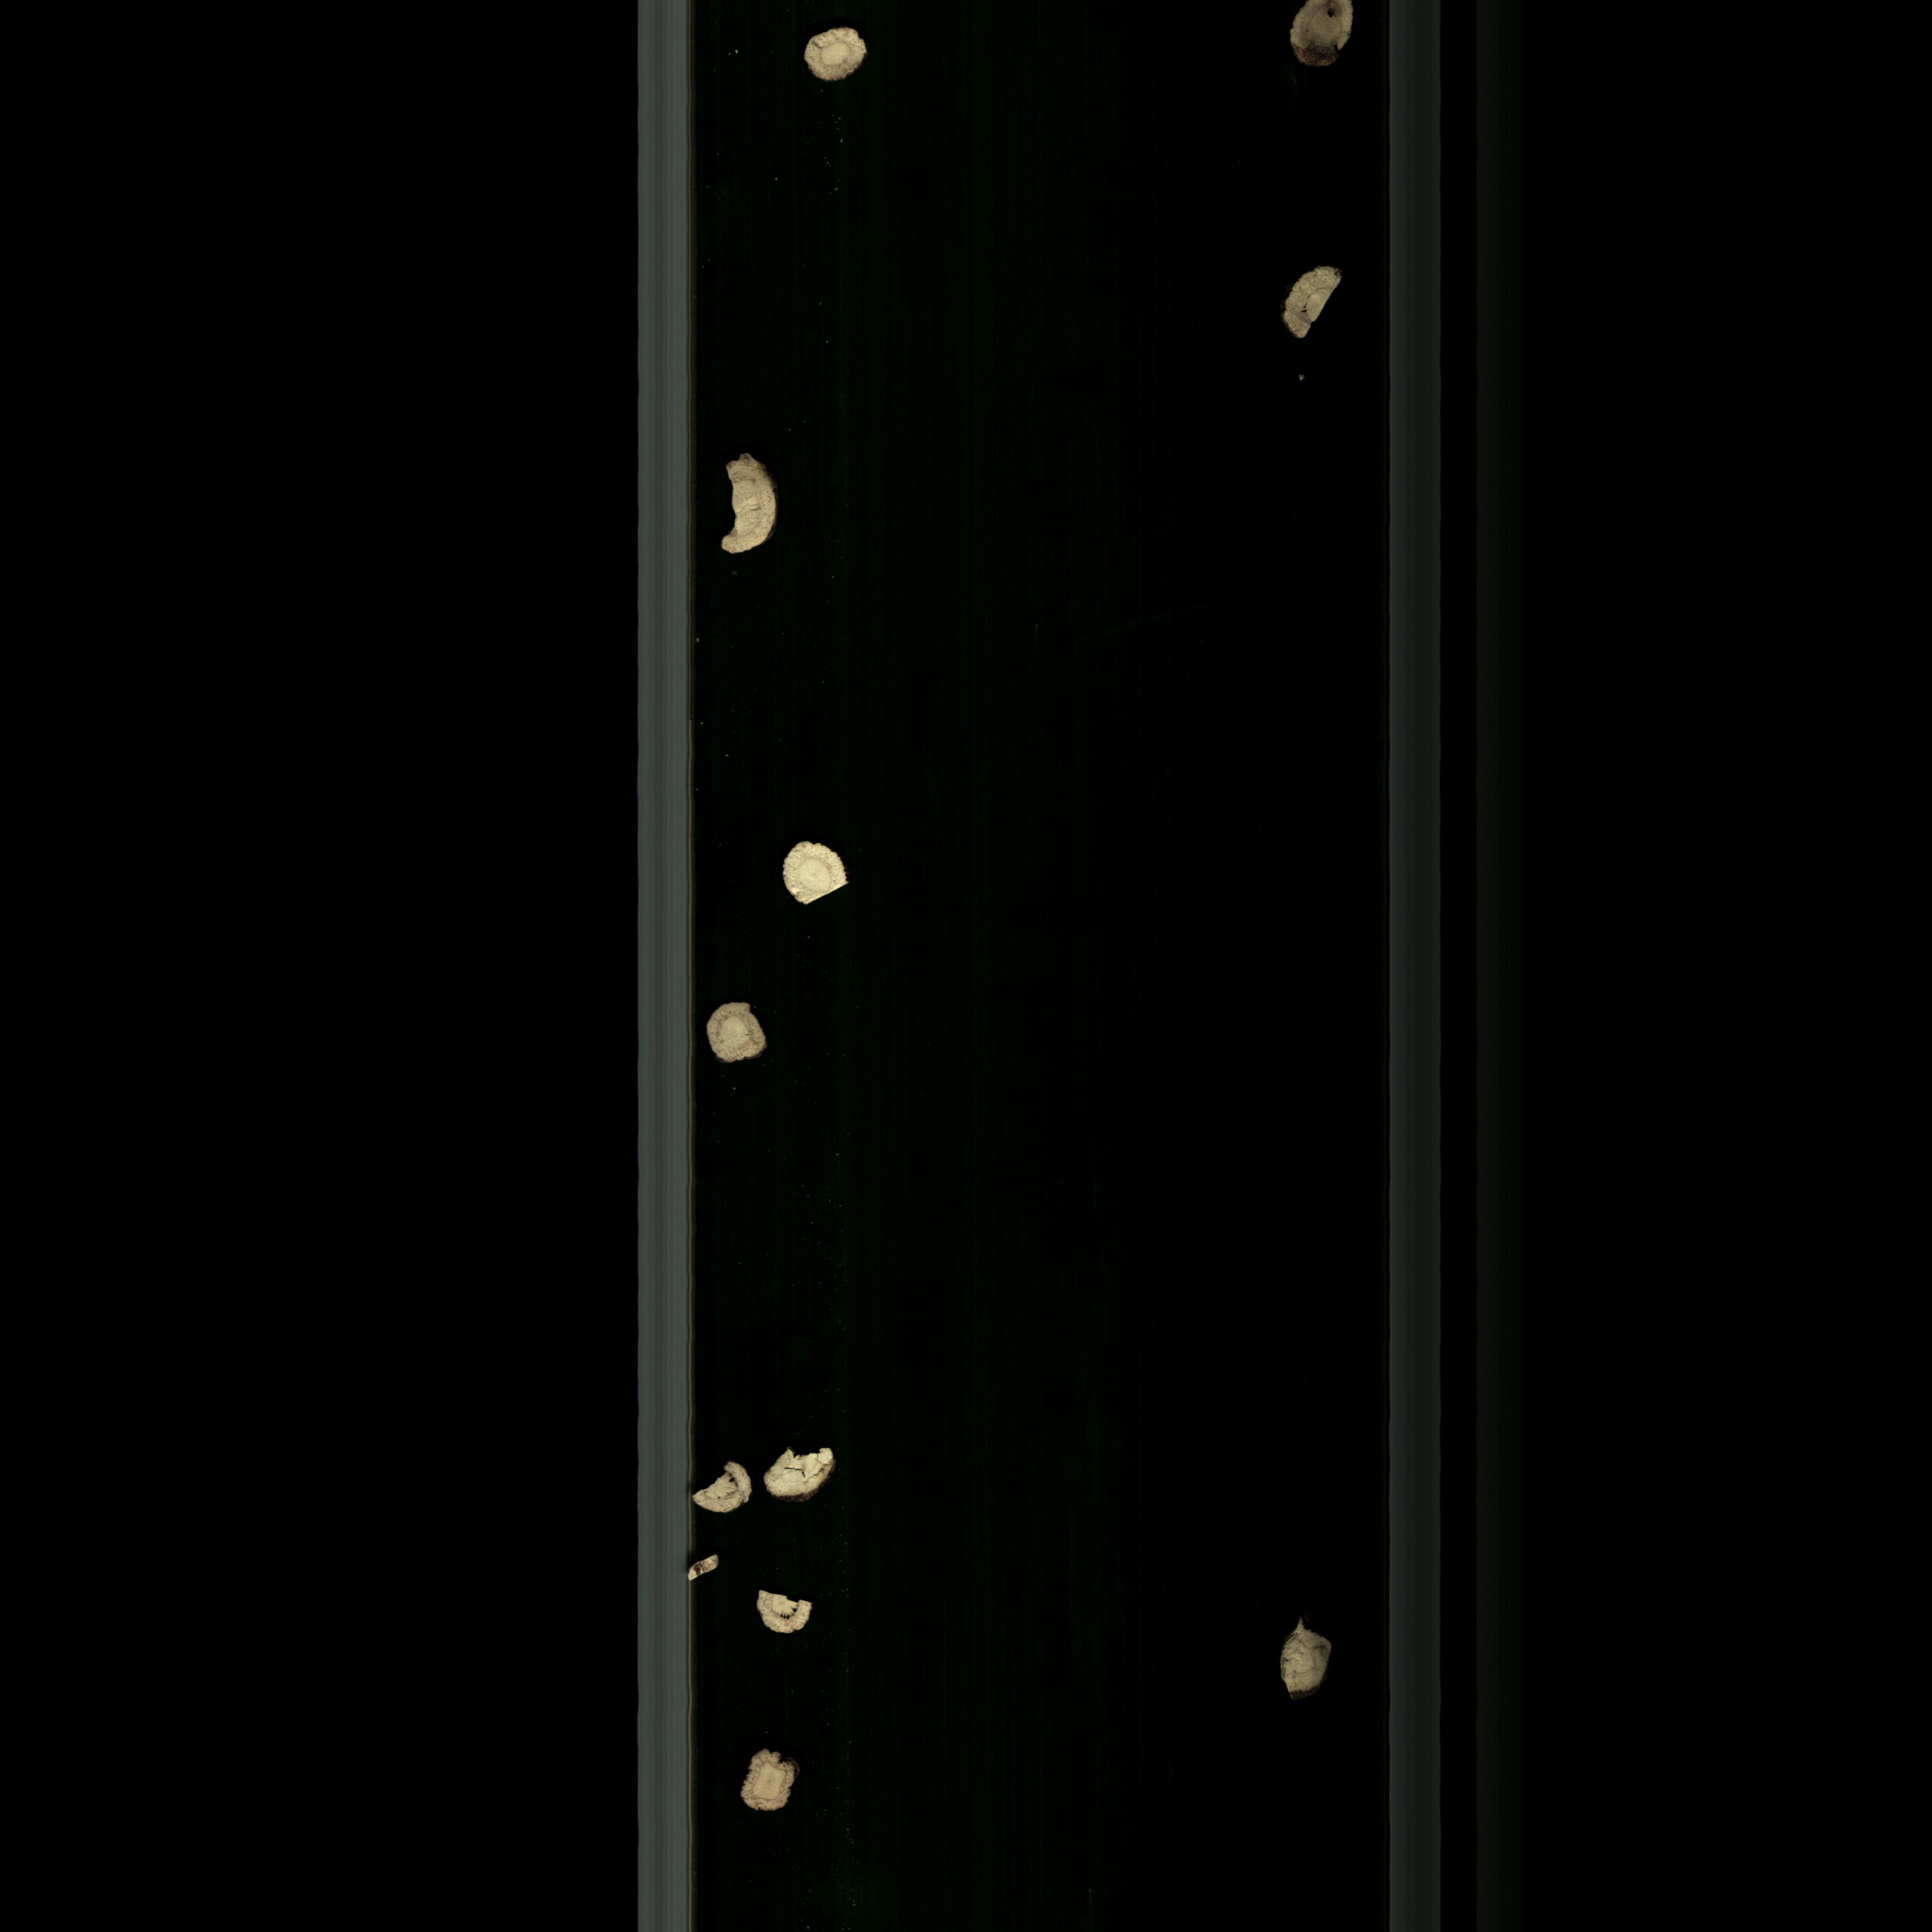bark: (1283, 0, 1366, 74)
debris: (709, 449, 780, 566), (777, 833, 869, 913), (1276, 1614, 1341, 1714), (757, 1438, 849, 1506), (1276, 265, 1352, 341), (745, 1582, 828, 1647), (692, 1460, 752, 1520)
distortion: (736, 1743, 807, 1824), (699, 1000, 777, 1069), (686, 1552, 725, 1587)
moldy: (798, 23, 876, 87)
